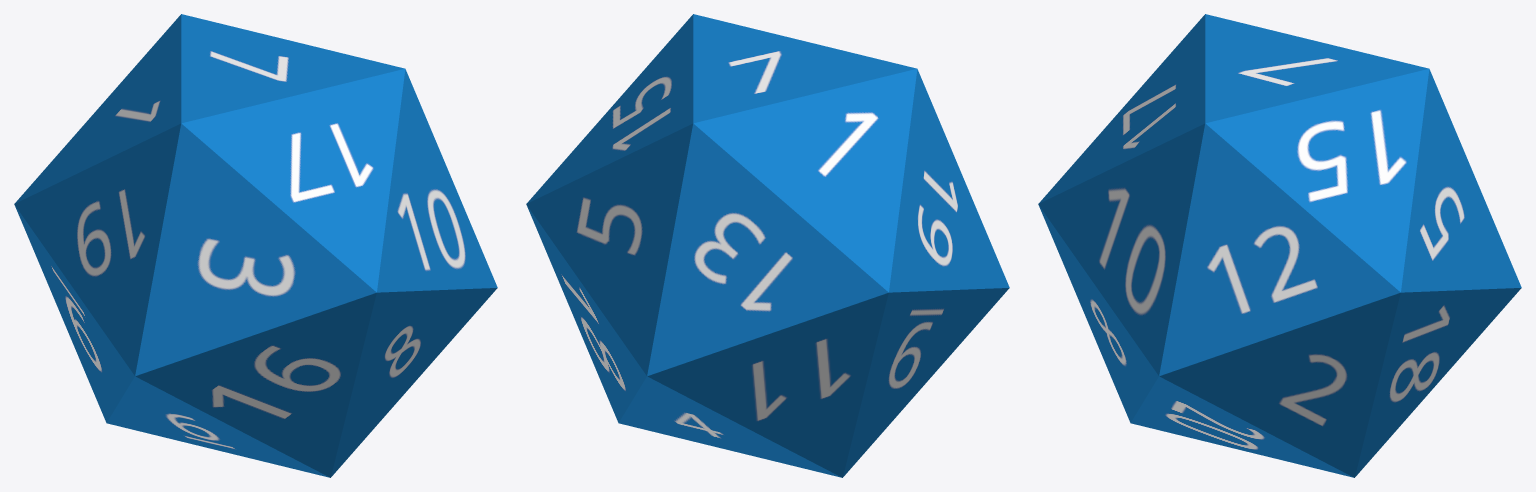
3 views of the same model, side by side, from view 1: azimuth 30°, elevation 25°; view 2: azimuth 150°, elevation 25°; view 3: azimuth 270°, elevation 25° (orthographic).
Parts seen in each view (by area): view 1: d20; view 2: d20; view 3: d20.
Part boxes in pixels (left/top/right/bottom): d20: left=14, top=14, right=497, bottom=477; d20: left=526, top=14, right=1009, bottom=477; d20: left=1038, top=14, right=1521, bottom=477.
Bounding box in the file's own units: 22.16 × 20.7 × 25.59.
Materials: 1 (1 with a texture image).
